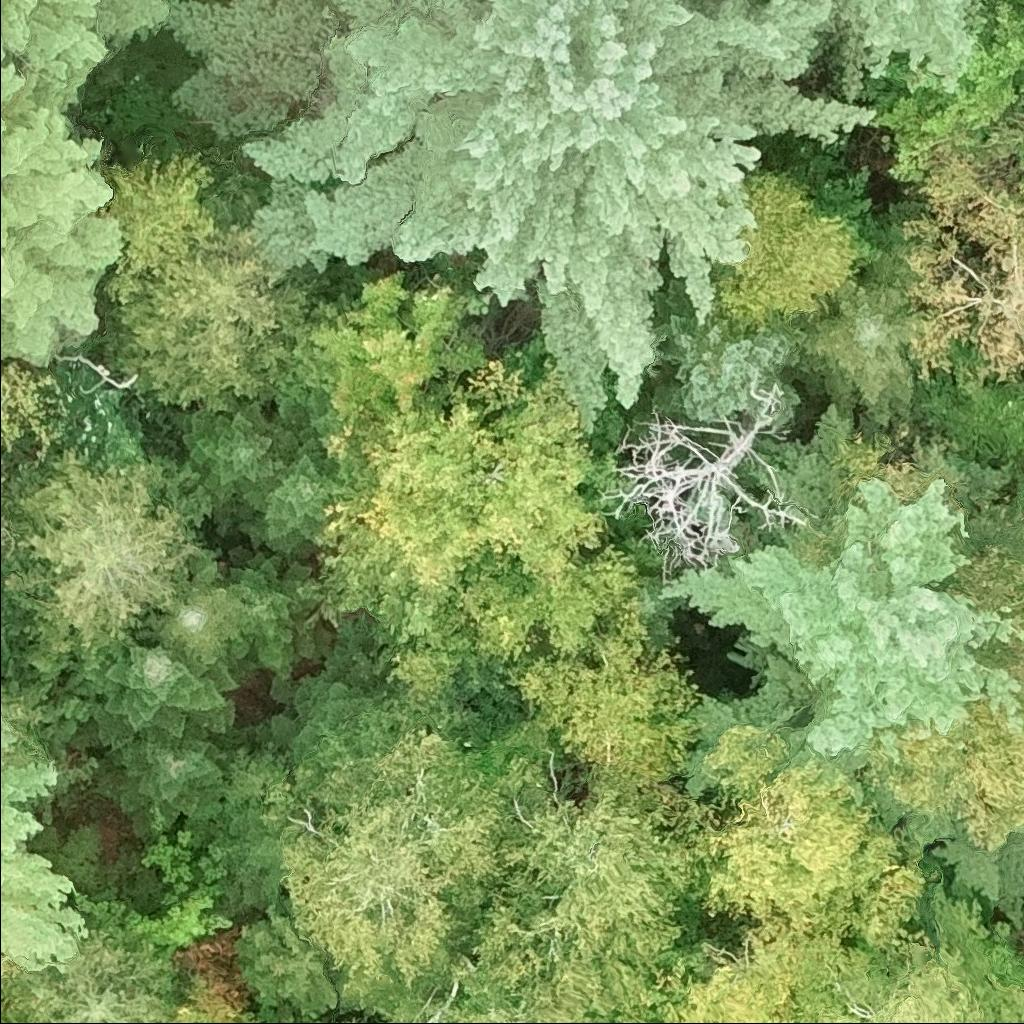crown: (159, 0, 878, 442), (657, 472, 1023, 798), (332, 360, 632, 653), (270, 711, 551, 1023), (475, 761, 724, 1023), (696, 724, 928, 956), (0, 447, 206, 675), (600, 381, 815, 580), (103, 219, 308, 414), (0, 55, 124, 362), (663, 922, 1023, 1023), (523, 599, 704, 786), (293, 267, 487, 435), (780, 201, 922, 429), (904, 141, 1023, 390), (639, 254, 802, 430), (712, 166, 869, 331), (0, 699, 92, 977), (865, 699, 1023, 847), (72, 638, 243, 756), (0, 0, 176, 109), (165, 393, 299, 535), (98, 150, 220, 304), (136, 546, 266, 679), (821, 0, 988, 101), (232, 412, 342, 557), (94, 725, 236, 837), (74, 858, 226, 961), (27, 926, 173, 1023), (225, 540, 320, 678), (420, 957, 610, 1023), (235, 909, 346, 1011), (289, 684, 412, 772), (172, 923, 265, 1023), (935, 526, 1023, 623), (629, 564, 686, 647), (978, 642, 1023, 706), (1019, 151, 1023, 198), (1020, 77, 1023, 109)
